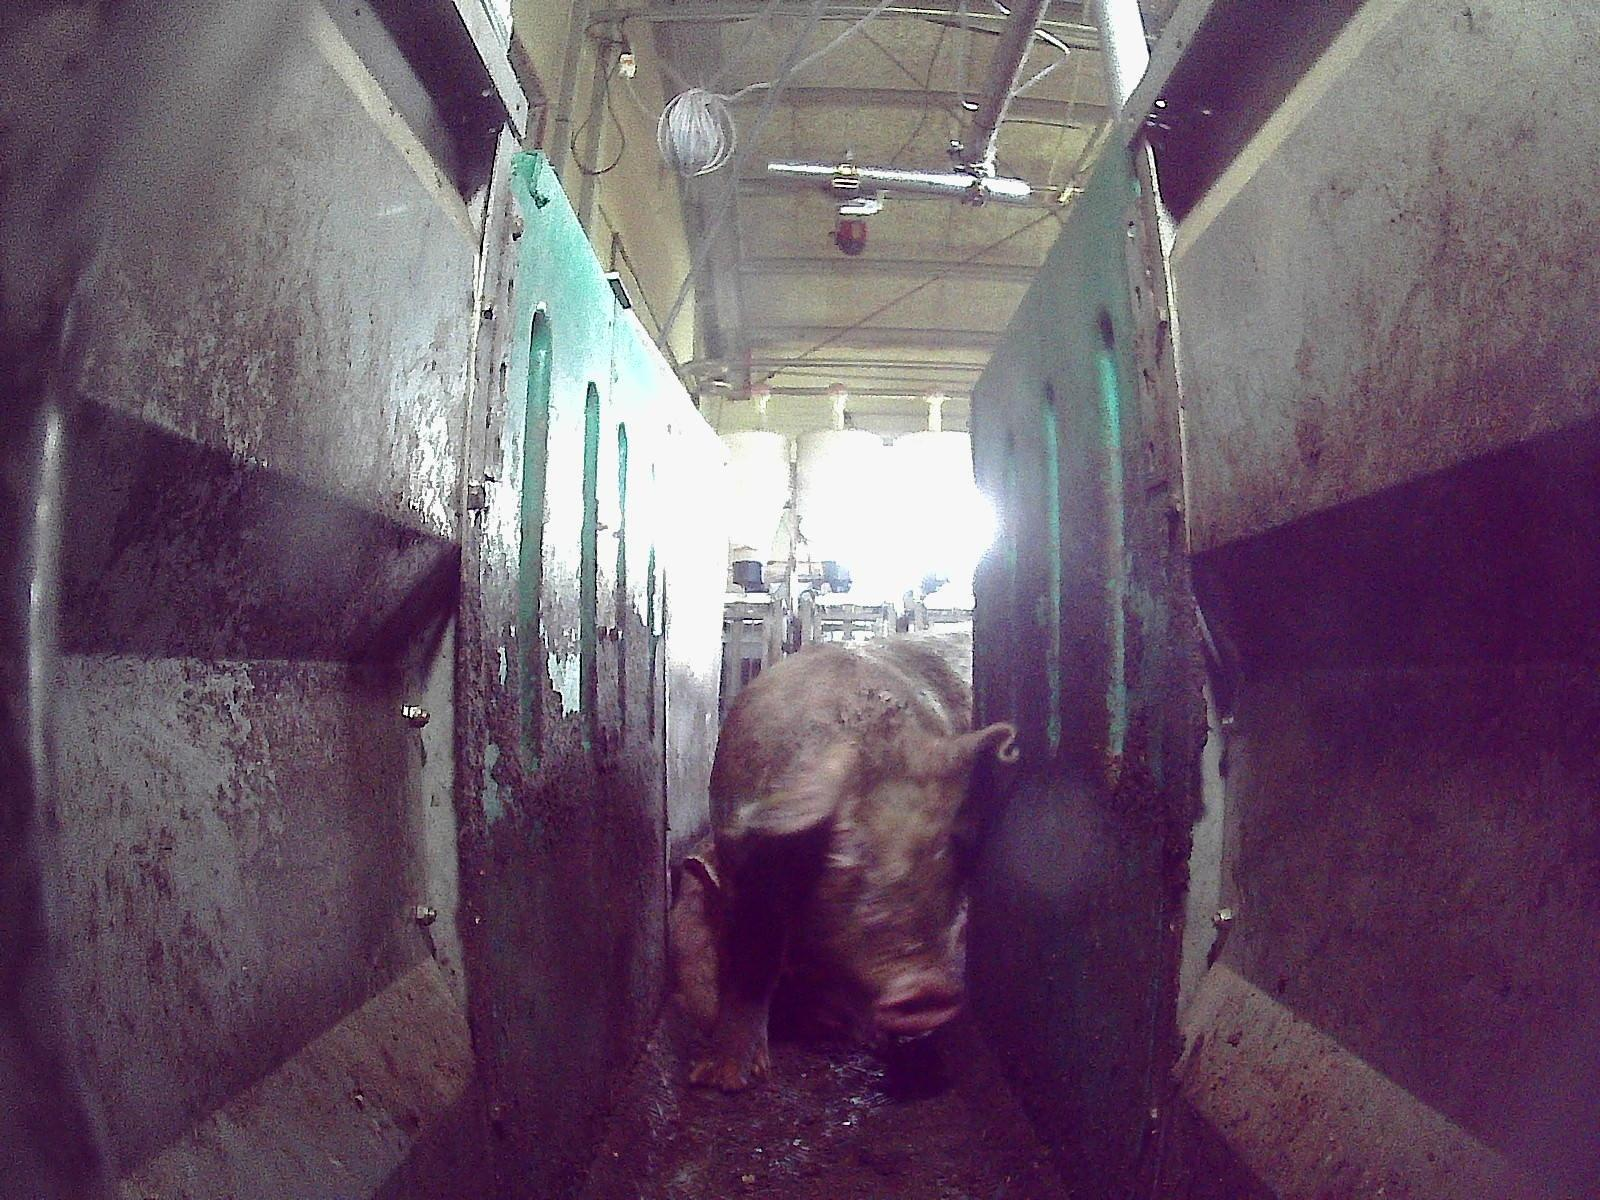Face: (748, 746, 971, 1032)
